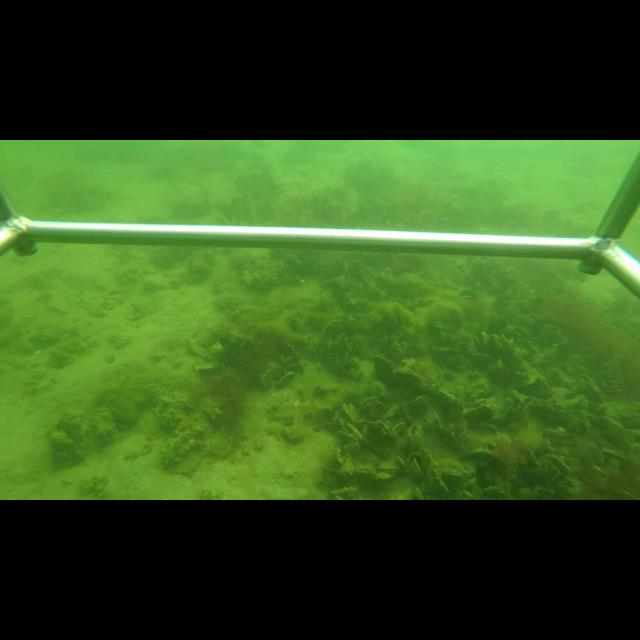Oyster-Closed: (418, 448, 450, 499), (429, 390, 465, 423), (532, 402, 575, 428), (355, 419, 393, 448), (401, 401, 425, 435), (390, 366, 423, 390), (439, 428, 460, 453), (361, 400, 387, 419), (597, 414, 620, 434), (274, 371, 298, 389), (259, 368, 277, 391), (408, 457, 424, 482), (457, 288, 480, 304), (432, 346, 455, 362), (389, 342, 405, 361), (376, 464, 403, 473), (355, 466, 377, 475)
Oyster-Open: (540, 453, 572, 476), (488, 366, 512, 387), (334, 332, 354, 355)
